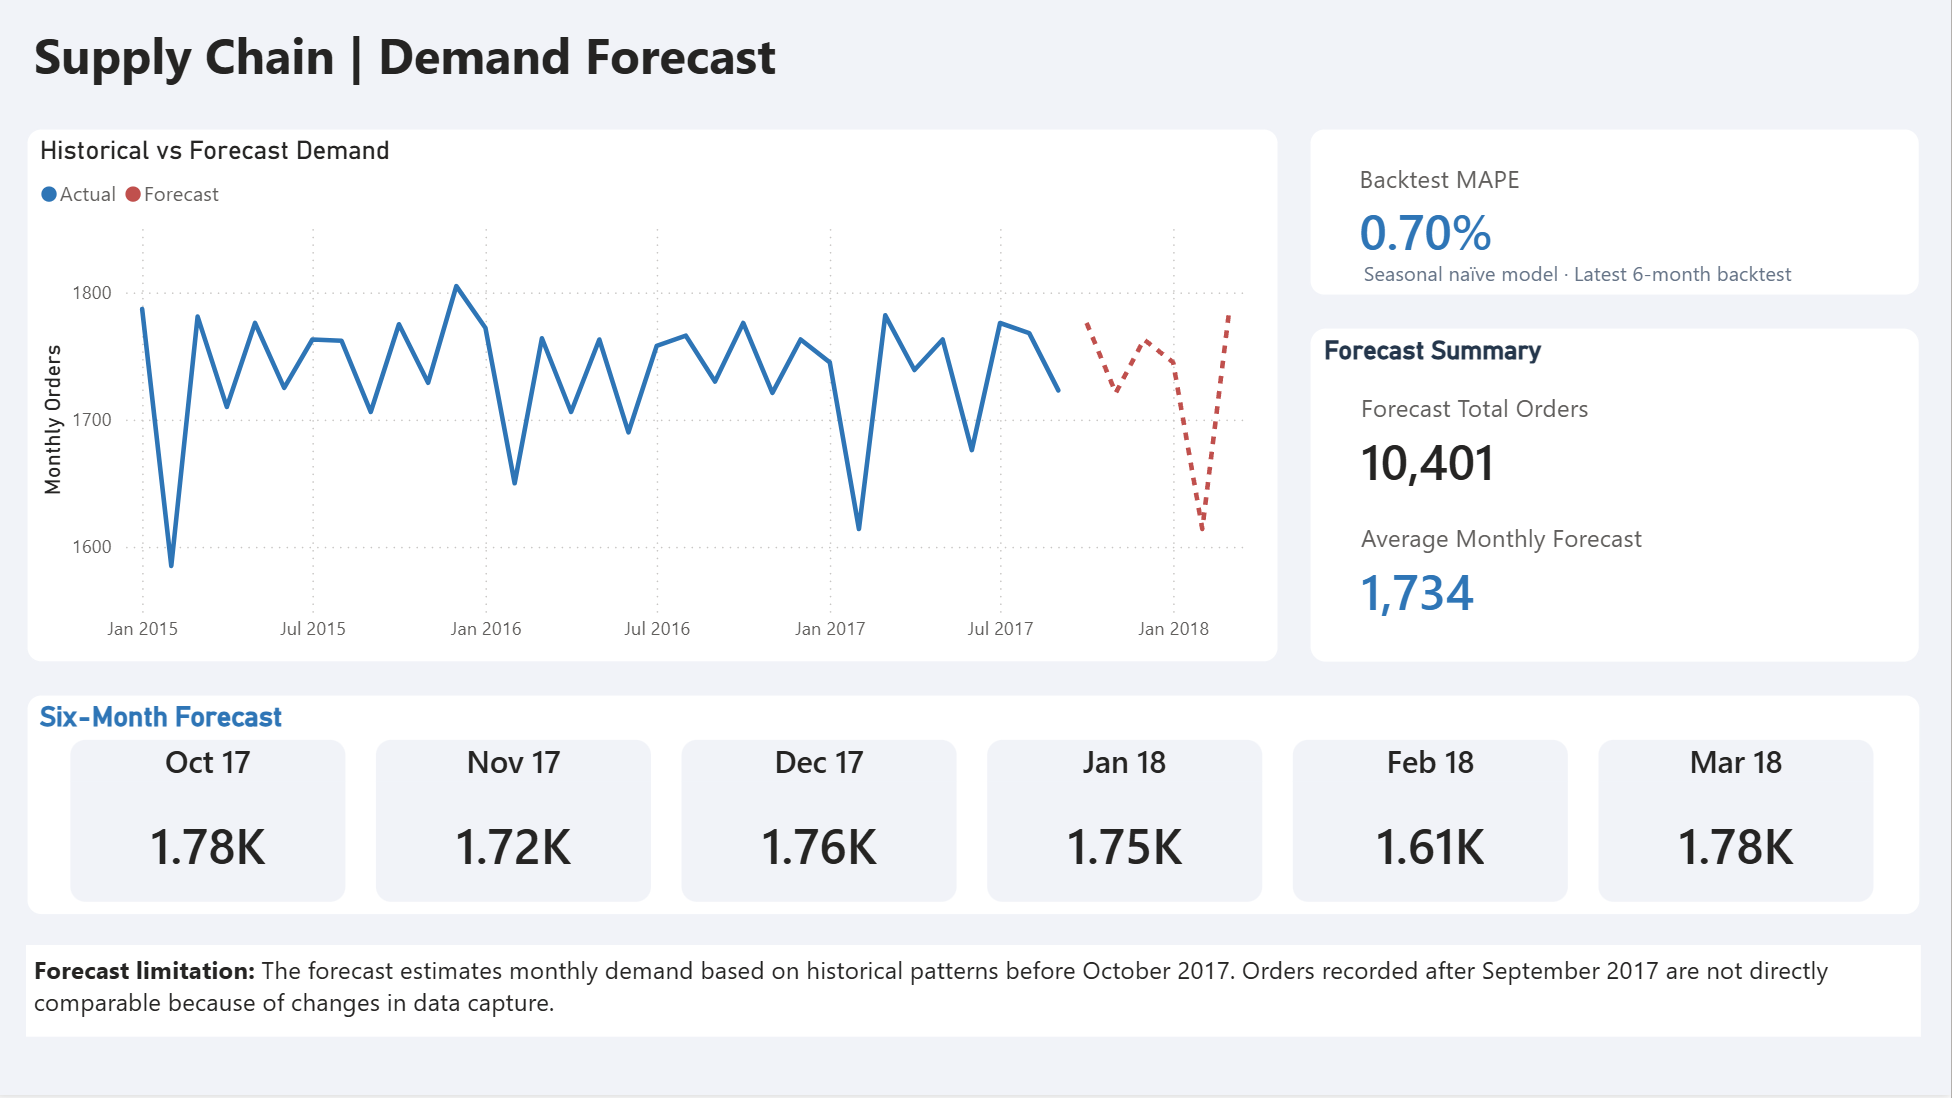

This screenshot's page, from the dashboard's own definition file:
{"tool":"powerbi","page":{"name":"Demand Forecast","canvas":[1280,720],"ordinal":3},"visuals":[{"type":"lineChart","title":"Historical vs Forecast Demand","fields":{"Y":["Sum(Demand.Orders)"],"Series":["Demand.Series"],"Category":["Demand.Month.Variation.Date Hierarchy.Year","Demand.Month.Variation.Date Hierarchy.Month"]},"box":[20,87,820,350],"z":0},{"type":"cardVisual","fields":{"Data":["clean_orders.Backtest MAPE %"]},"box":[860,87,400,110],"z":1000},{"type":"textbox","box":[20,622,1240,60],"z":2000},{"type":"textbox","box":[20,12,800,55],"z":3000},{"type":"cardVisual","title":"Forecast Summary","fields":{"Data":["Demand.Forecast Total Orders","Demand.Average Monthly Forecast"]},"box":[860,217,400,220.1],"z":4000},{"type":"cardVisual","title":"Six-Month Forecast","fields":{"Rows":["Demand.Month Label"],"Data":["Sum(Demand.Orders)"]},"box":[20,457.6,1240.4,145],"z":5000},{"type":"textbox","box":[890.4,168.2,299.3,28.4],"z":6000}]}

Visuals, with their boxes in screenshot pixels (x1, y1, x2, y2), scaled from the page's 1280x720 canvas onto the 1952x1098 screenshot:
"Historical vs Forecast Demand" lineChart: {"x1": 30, "y1": 133, "x2": 1281, "y2": 666}
cardVisual - clean_orders.Backtest MAPE %: {"x1": 1312, "y1": 133, "x2": 1922, "y2": 300}
textbox: {"x1": 30, "y1": 949, "x2": 1922, "y2": 1040}
textbox: {"x1": 30, "y1": 18, "x2": 1250, "y2": 102}
"Forecast Summary" cardVisual: {"x1": 1312, "y1": 331, "x2": 1922, "y2": 667}
"Six-Month Forecast" cardVisual: {"x1": 30, "y1": 698, "x2": 1922, "y2": 919}
textbox: {"x1": 1358, "y1": 257, "x2": 1814, "y2": 300}
